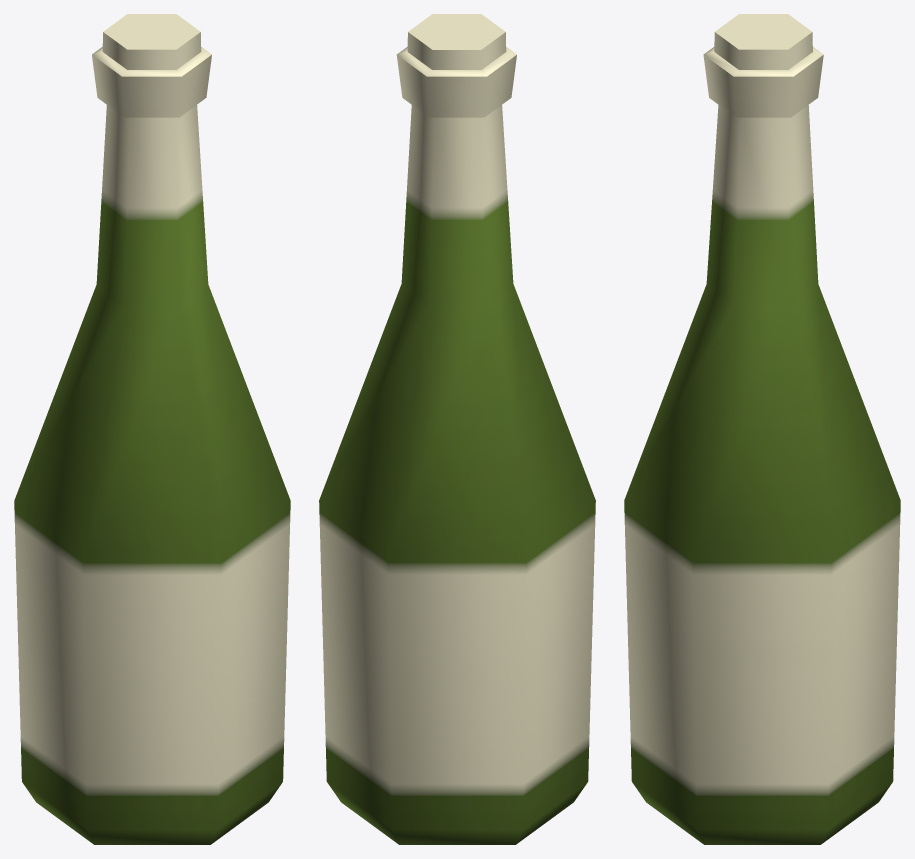
The model's file is SM_Wine_Botlte_2_01.fbx.
3 renders of one model, left to right at view 1: azimuth 30°, elevation 25°; view 2: azimuth 150°, elevation 25°; view 3: azimuth 270°, elevation 25°, orthographic.
Parts seen in each view (by area): view 1: SM_Wine_Botlte_2_01; view 2: SM_Wine_Botlte_2_01; view 3: SM_Wine_Botlte_2_01.
Part boxes in pixels (x1=…): SM_Wine_Botlte_2_01: x1=14, y1=14, x2=290, y2=844; SM_Wine_Botlte_2_01: x1=319, y1=14, x2=595, y2=844; SM_Wine_Botlte_2_01: x1=624, y1=14, x2=900, y2=844.
Size of the model in its own units: 7.54 by 26.76 by 8.71.
